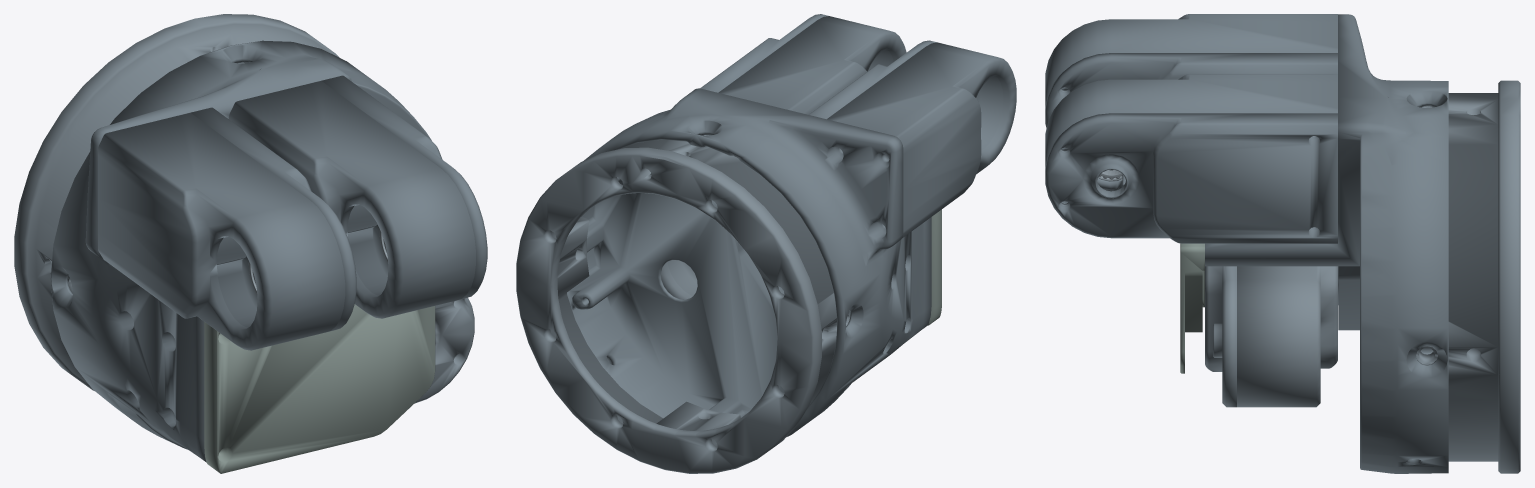
3 views of the same model, side by side, from view 1: azimuth 30°, elevation 25°; view 2: azimuth 150°, elevation 25°; view 3: azimuth 270°, elevation 25° (orthographic). The views are drawn at different scales.
Visible parts, largest first — view 1: shell_0, palm_plate_0, cover_0; view 2: shell_0, cover_0, palm_plate_0; view 3: shell_0, cover_0, palm_plate_0.
Boxes of the visible parts, <box> form: shell_0: <box>50,40,487,461</box>; palm_plate_0: <box>204,304,435,473</box>; cover_0: <box>14,14,474,403</box>; shell_0: <box>567,14,1016,436</box>; cover_0: <box>516,135,850,473</box>; palm_plate_0: <box>928,209,941,325</box>; shell_0: <box>1045,14,1448,473</box>; cover_0: <box>1205,80,1520,473</box>; palm_plate_0: <box>1180,243,1204,373</box>.
Size of the model in its own units: 0.0825 by 0.08 by 0.0965.
